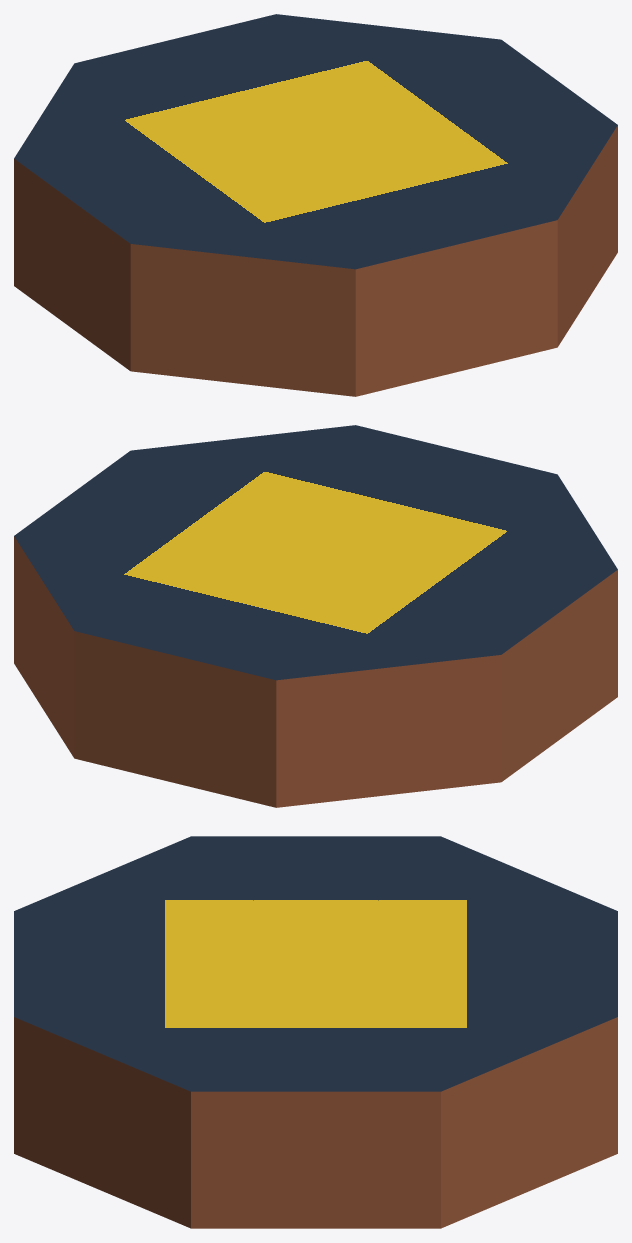
Rendered from coaster.fbx.
3 renders of one model, top to bottom at view 1: azimuth 30°, elevation 25°; view 2: azimuth 150°, elevation 25°; view 3: azimuth 270°, elevation 25°, orthographic. The views are drawn at different scales.
Visible parts, largest first — view 1: cylinder; view 2: cylinder; view 3: cylinder.
Part boxes in pixels (left/top/right/bottom): cylinder: left=14, top=14, right=617, bottom=396; cylinder: left=14, top=425, right=617, bottom=807; cylinder: left=14, top=836, right=617, bottom=1228.
Bounding box in the file's own units: 25 × 6.25 × 25.
Materials: 1 (1 with a texture image).
